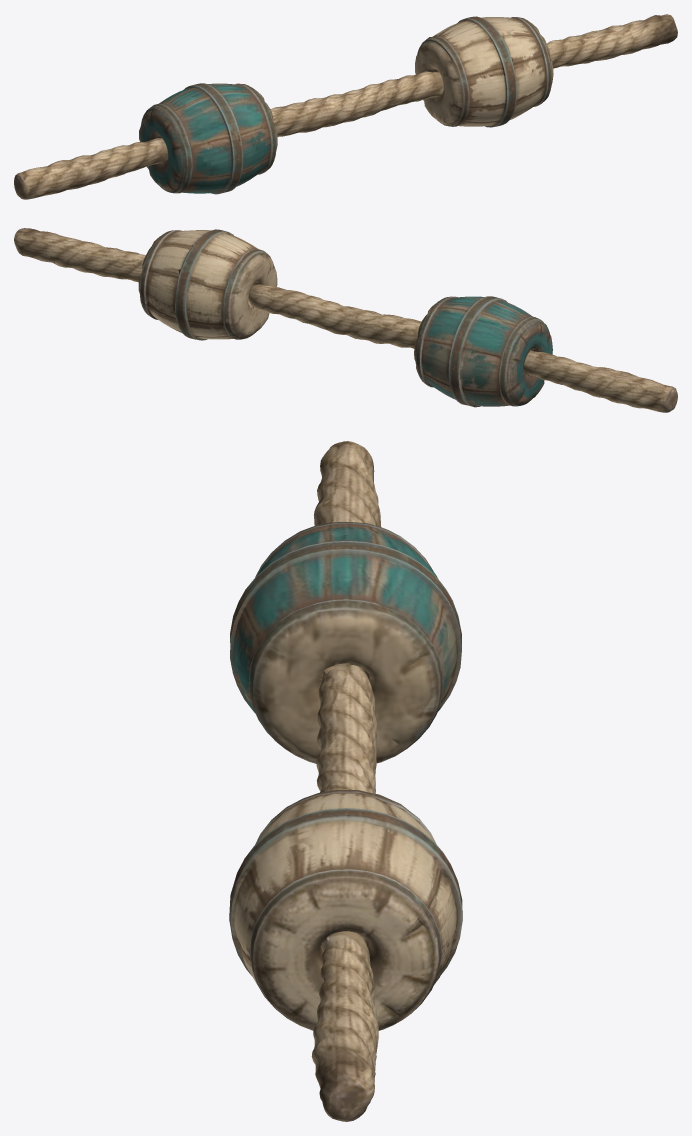
Rendered from tidewake_rope_float_line.glb.
The picture shows the model from 3 angles, top to bottom: view 1: azimuth 30°, elevation 25°; view 2: azimuth 150°, elevation 25°; view 3: azimuth 270°, elevation 25°; orthographic projection. The views are drawn at different scales.
Parts seen in each view (by area): view 1: Mesh_0; view 2: Mesh_0; view 3: Mesh_0.
Boxes of the visible parts, x1,y1,x2,y2 form: Mesh_0: [14, 14, 677, 199]; Mesh_0: [14, 228, 677, 412]; Mesh_0: [229, 441, 462, 1121].
Size of the model in its own units: 1.9 by 0.2774 by 0.2926.
Materials: 1 (1 with a texture image).
